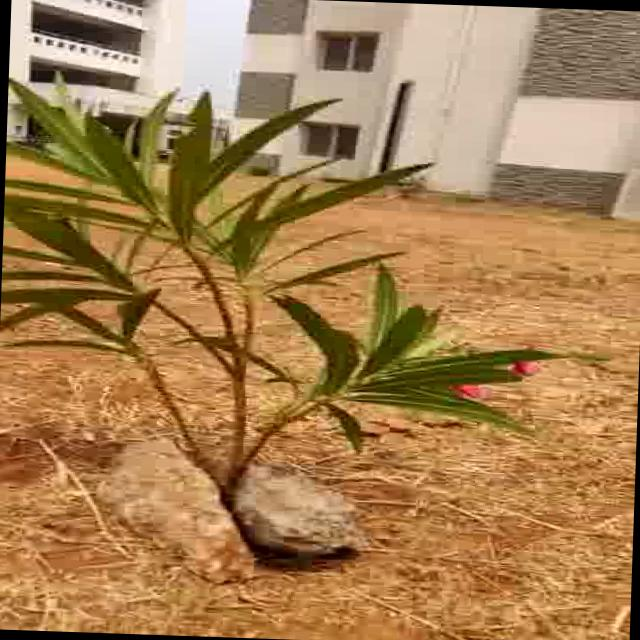OLEANDER: (9, 82, 532, 472)
